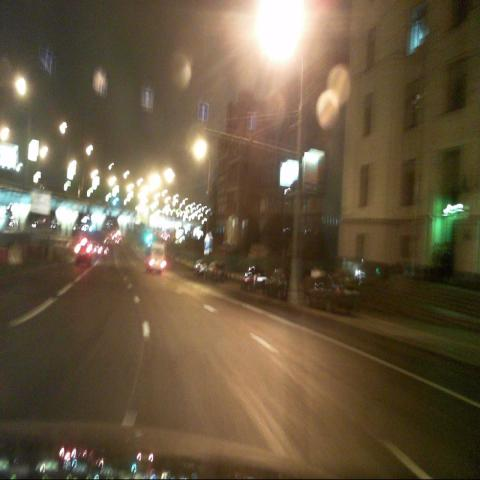5_15_2: (198, 102, 208, 123)
